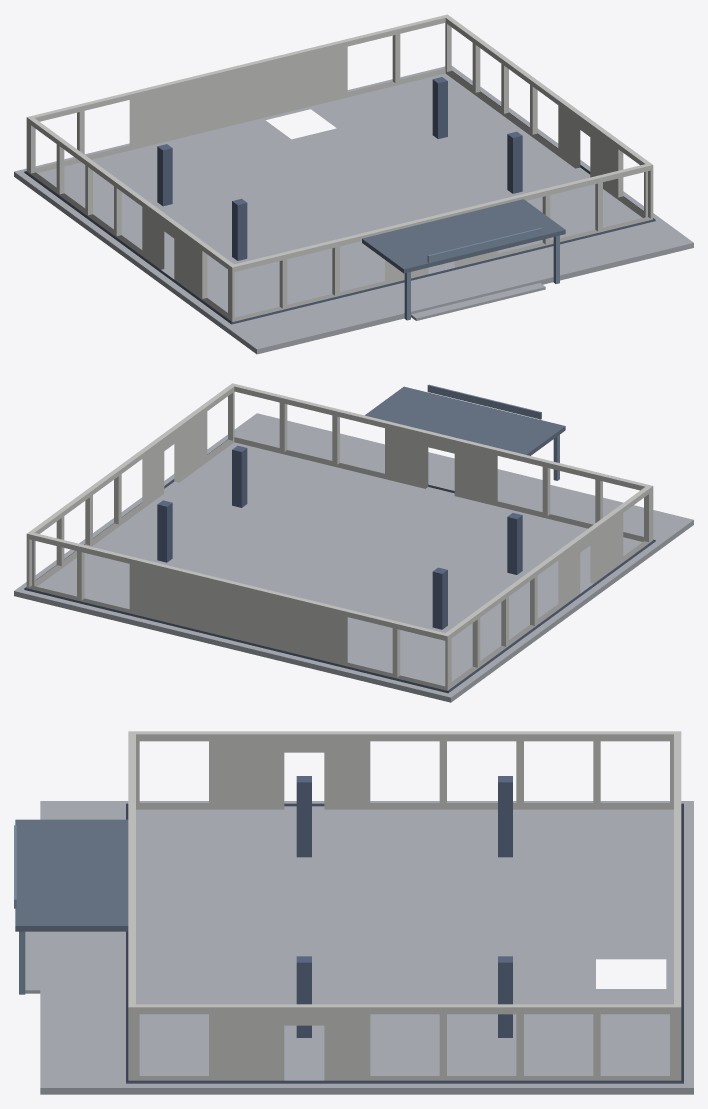
The model's file is office-lobby.shaft-v1.lod1.glb.
3 renders of one model, top to bottom at view 1: azimuth 30°, elevation 25°; view 2: azimuth 150°, elevation 25°; view 3: azimuth 270°, elevation 25°, orthographic. The views are drawn at different scales.
Parts seen in each view (by area): view 1: office-lobby; view 2: office-lobby; view 3: office-lobby.
Boxes of the visible parts, bbox=[...] form: office-lobby: bbox=[14, 14, 693, 354]; office-lobby: bbox=[14, 383, 693, 702]; office-lobby: bbox=[14, 731, 693, 1094].
Bounding box in the file's own units: 27 × 3.92 × 27.05.
